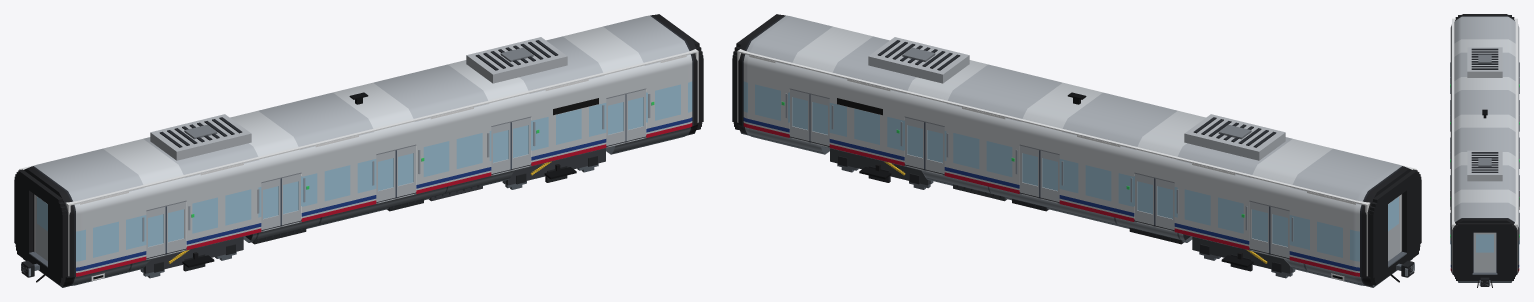
File: mtr_mtrain_car.obj
3 views of the same model, side by side, from view 1: azimuth 30°, elevation 25°; view 2: azimuth 150°, elevation 25°; view 3: azimuth 270°, elevation 25° (orthographic). The views are drawn at different scales.
Parts seen in each view (by area): view 1: SHELL, SHELL_roof, SHELL_diaphragm, SHELL_ceiling, BOGEY_REAR, BOGEY_FRONT, FRAME, EXTERNAL_DOOR_16_CG_DR3_TOGGLE_TL_-0.64_X, EXTERNAL_DOOR_22_CG_DR4_TOGGLE_TL_-0.64_X, EXTERNAL_DOOR_4_CG_DR1_TOGGLE_TL_-0.64_X, EXTERNAL_DOOR_5_CG_DR1_TOGGLE_TL_0.64_X, EXTERNAL_DOOR_10_CG_DR2_TOGGLE_TL_-0.64_X (+9 smaller); view 2: SHELL, SHELL_roof, SHELL_diaphragm, SHELL_ceiling, BOGEY_REAR, BOGEY_FRONT, FRAME, EXTERNAL_DOOR_19_CG_DL3_TOGGLE_TL_-0.64_X, EXTERNAL_DOOR_25_CG_DL4_TOGGLE_TL_-0.64_X, EXTERNAL_DOOR_7_CG_DL1_TOGGLE_TL_-0.64_X, EXTERNAL_DOOR_8_CG_DL1_TOGGLE_TL_0.64_X, EXTERNAL_DOOR_13_CG_DL2_TOGGLE_TL_-0.64_X (+9 smaller); view 3: SHELL, SHELL_diaphragm, SHELL_roof, SHELL_ceiling, CONNECTING_DOOR_2_CG_CF_TOGGLE_TL_0.98_Z, SHELL_handle, FRAME, SHELL_end, SHELL_floor, SHELL_gangway.
Boxes of the visible parts, bbox=[...] form: SHELL: bbox=[23, 14, 699, 287]; SHELL_roof: bbox=[150, 37, 567, 160]; SHELL_diaphragm: bbox=[14, 14, 703, 285]; SHELL_ceiling: bbox=[22, 15, 696, 205]; BOGEY_REAR: bbox=[143, 237, 243, 273]; BOGEY_FRONT: bbox=[505, 148, 605, 185]; FRAME: bbox=[21, 136, 646, 282]; EXTERNAL_DOOR_16_CG_DR3_TOGGLE_TL_-0.64_X: bbox=[376, 150, 396, 202]; EXTERNAL_DOOR_22_CG_DR4_TOGGLE_TL_-0.64_X: bbox=[491, 122, 511, 173]; EXTERNAL_DOOR_4_CG_DR1_TOGGLE_TL_-0.64_X: bbox=[146, 206, 166, 258]; EXTERNAL_DOOR_5_CG_DR1_TOGGLE_TL_0.64_X: bbox=[166, 201, 186, 253]; EXTERNAL_DOOR_10_CG_DR2_TOGGLE_TL_-0.64_X: bbox=[261, 178, 281, 230]; SHELL: bbox=[736, 14, 1412, 287]; SHELL_roof: bbox=[868, 37, 1285, 160]; SHELL_diaphragm: bbox=[732, 14, 1421, 285]; SHELL_ceiling: bbox=[739, 15, 1413, 205]; BOGEY_REAR: bbox=[1192, 237, 1292, 273]; BOGEY_FRONT: bbox=[830, 148, 930, 185]; FRAME: bbox=[789, 136, 1414, 282]; EXTERNAL_DOOR_19_CG_DL3_TOGGLE_TL_-0.64_X: bbox=[1039, 150, 1059, 202]; EXTERNAL_DOOR_25_CG_DL4_TOGGLE_TL_-0.64_X: bbox=[924, 122, 944, 173]; EXTERNAL_DOOR_7_CG_DL1_TOGGLE_TL_-0.64_X: bbox=[1269, 206, 1289, 258]; EXTERNAL_DOOR_8_CG_DL1_TOGGLE_TL_0.64_X: bbox=[1249, 201, 1269, 253]; EXTERNAL_DOOR_13_CG_DL2_TOGGLE_TL_-0.64_X: bbox=[1154, 178, 1174, 230]; SHELL: bbox=[1450, 14, 1519, 282]; SHELL_diaphragm: bbox=[1452, 15, 1517, 280]; SHELL_roof: bbox=[1467, 47, 1502, 181]; SHELL_ceiling: bbox=[1452, 19, 1517, 223]; CONNECTING_DOOR_2_CG_CF_TOGGLE_TL_0.98_Z: bbox=[1474, 232, 1495, 272]; SHELL_handle: bbox=[1450, 62, 1519, 244]; FRAME: bbox=[1477, 277, 1492, 287]; SHELL_end: bbox=[1452, 18, 1517, 272]; SHELL_floor: bbox=[1473, 232, 1496, 271]; SHELL_gangway: bbox=[1472, 271, 1497, 274].
Bounding box in the file's own units: 23.24 × 4.06 × 3.14.
1 material, 1 textured.
